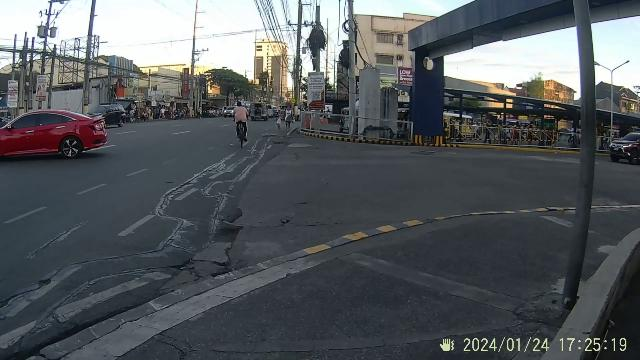lamp_post: (592, 52, 632, 128)
utility_post: (35, 0, 67, 92), (188, 3, 208, 79)
